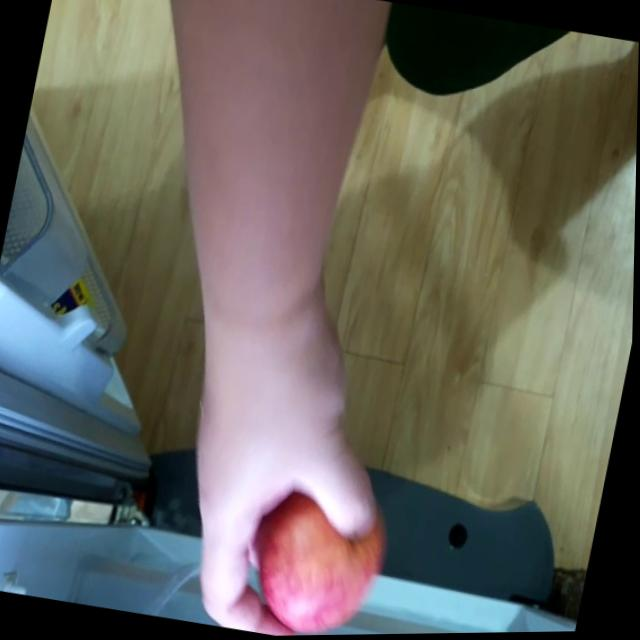apple: (243, 479, 401, 637)
